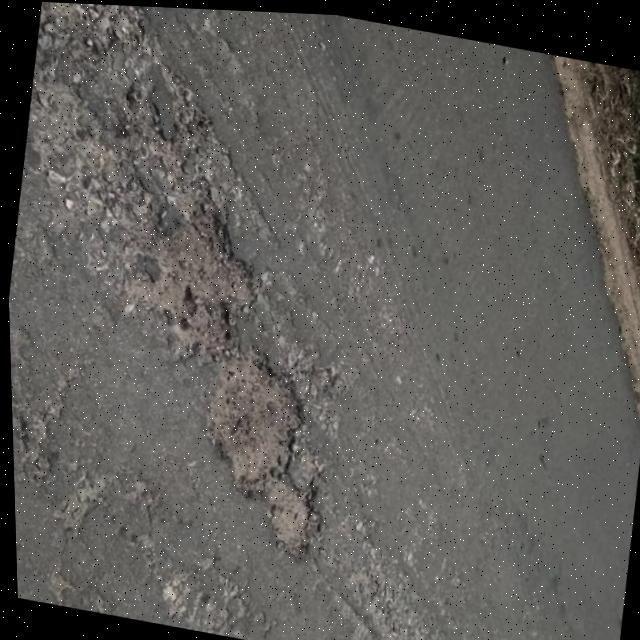Pothole: (121, 180, 276, 367), (191, 330, 315, 502), (256, 468, 327, 560)
